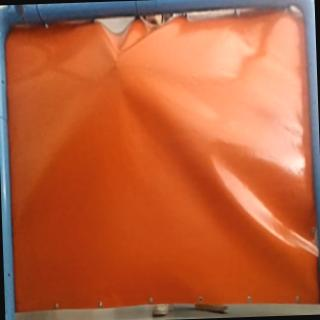Hit-hRxx: (110, 56, 124, 70)
